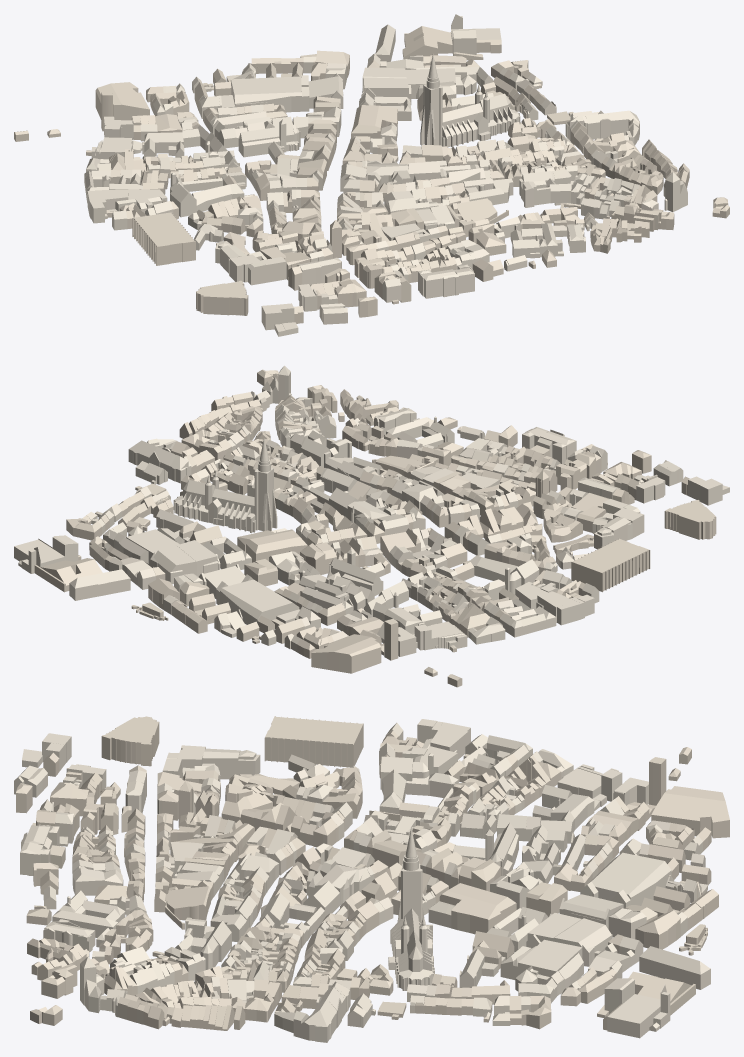
3 renders of one model, top to bottom at view 1: azimuth 30°, elevation 25°; view 2: azimuth 150°, elevation 25°; view 3: azimuth 270°, elevation 25°, orthographic. The views are drawn at different scales.
Bounding box in the file's own units: 665 × 125 × 648.
